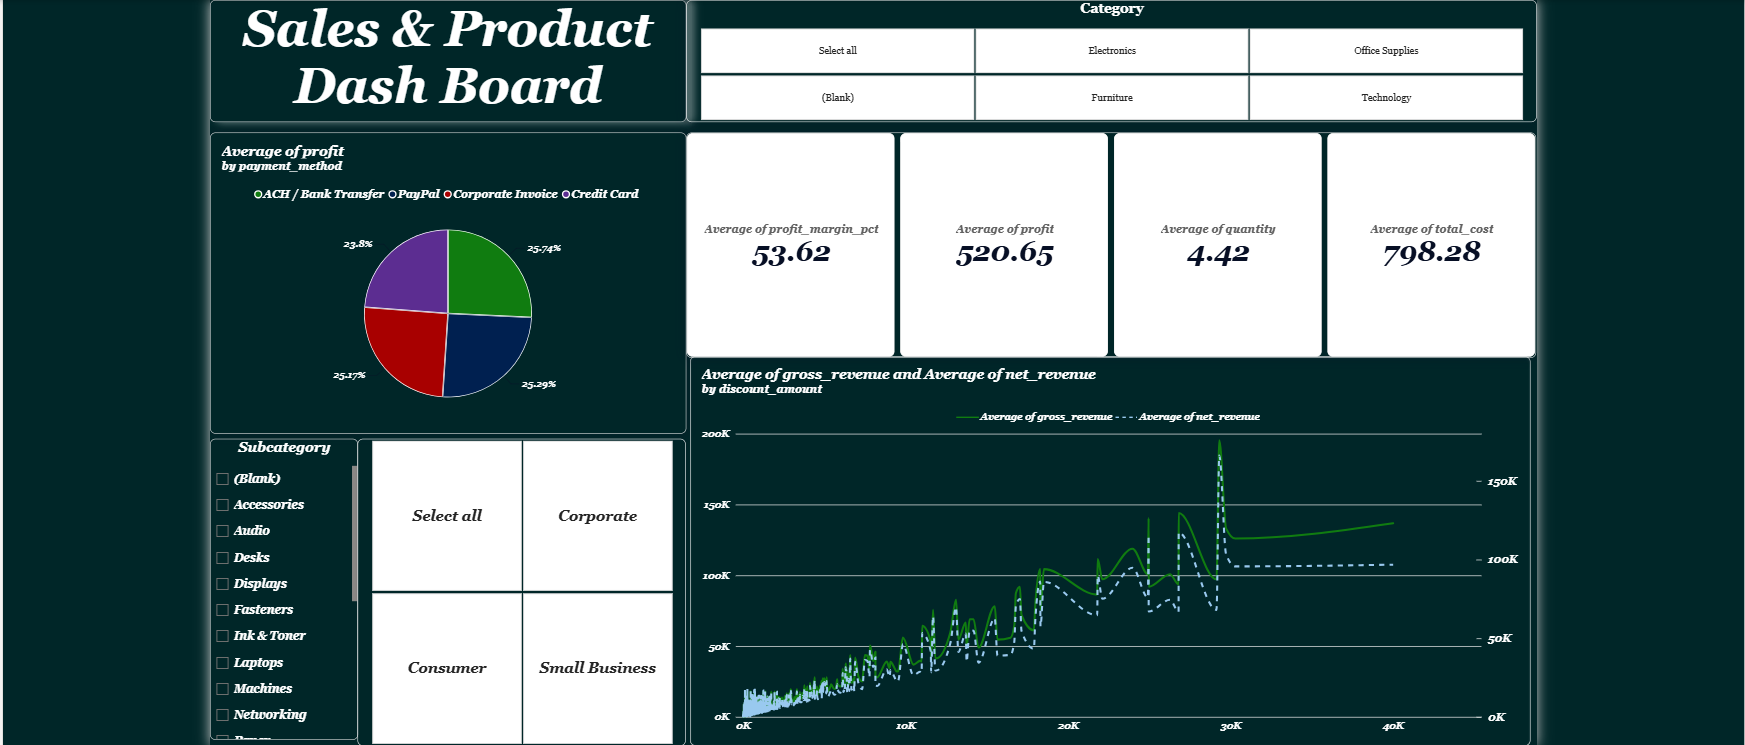

Layout of this report page (visuals, bound fields, positions):
{"tool":"powerbi","page":{"name":"Page 1","canvas":[1920,1080],"ordinal":0},"visuals":[{"type":"textbox","box":[0,0,689.5,177],"z":0},{"type":"pieChart","fields":{"Y":["Avg(bi_analytics_db fact_sales.profit)"],"Category":["bi_analytics_db fact_sales.payment_method"]},"box":[0,191.4,689.5,436.4],"z":1000},{"type":"slicer","title":"Category","fields":{"Values":["bi_analytics_db dim_products.category"]},"box":[689.5,0,1230.9,177],"z":2000},{"type":"slicer","title":"Subcategory","fields":{"Values":["bi_analytics_db dim_products.subcategory"]},"box":[0,636,214.1,436.4],"z":3000},{"type":"lineChart","fields":{"Category":["bi_analytics_db fact_sales.discount_amount"],"Y2":["Avg(bi_analytics_db fact_sales.net_revenue)"],"Y":["Avg(bi_analytics_db fact_sales.gross_revenue)"]},"box":[695.7,516.6,1216.5,564],"z":4000},{"type":"slicer","fields":{"Values":["bi_analytics_db dim_customers.segment"]},"box":[214.1,636,475.5,444.6],"z":5000},{"type":"cardVisual","fields":{"Data":["Avg(bi_analytics_db fact_sales.profit_margin_pct)","Avg(bi_analytics_db fact_sales.profit)","Avg(bi_analytics_db fact_sales.quantity)","Avg(bi_analytics_db fact_sales.total_cost)"]},"box":[690,191,1230,326],"z":6000}]}

Visuals, with their boxes on the page's 1920x1080 design canvas (x1, y1, x2, y2). These are canvas units, not pixel positions in the 1745x745 screenshot, which may show the page scaled, cropped or inside an application window:
textbox: BBox(0, 0, 690, 177)
pieChart - Avg(bi_analytics_db fact_sales.profit) x bi_analytics_db fact_sales.payment_method: BBox(0, 191, 690, 628)
"Category" slicer: BBox(690, 0, 1920, 177)
"Subcategory" slicer: BBox(0, 636, 214, 1072)
lineChart - bi_analytics_db fact_sales.discount_amount x Avg(bi_analytics_db fact_sales.net_revenue): BBox(696, 517, 1912, 1081)
slicer - bi_analytics_db dim_customers.segment: BBox(214, 636, 690, 1081)
cardVisual - Avg(bi_analytics_db fact_sales.profit_margin_pct) x Avg(bi_analytics_db fact_sales.profit): BBox(690, 191, 1920, 517)
